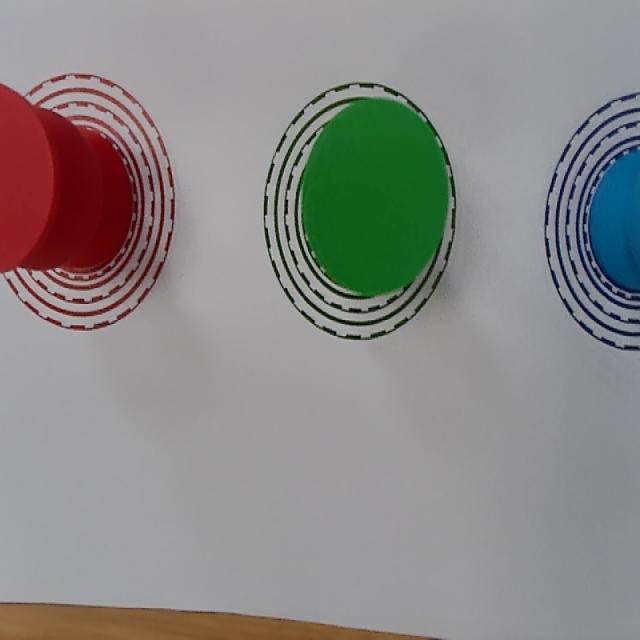g: (306, 97, 448, 295)
